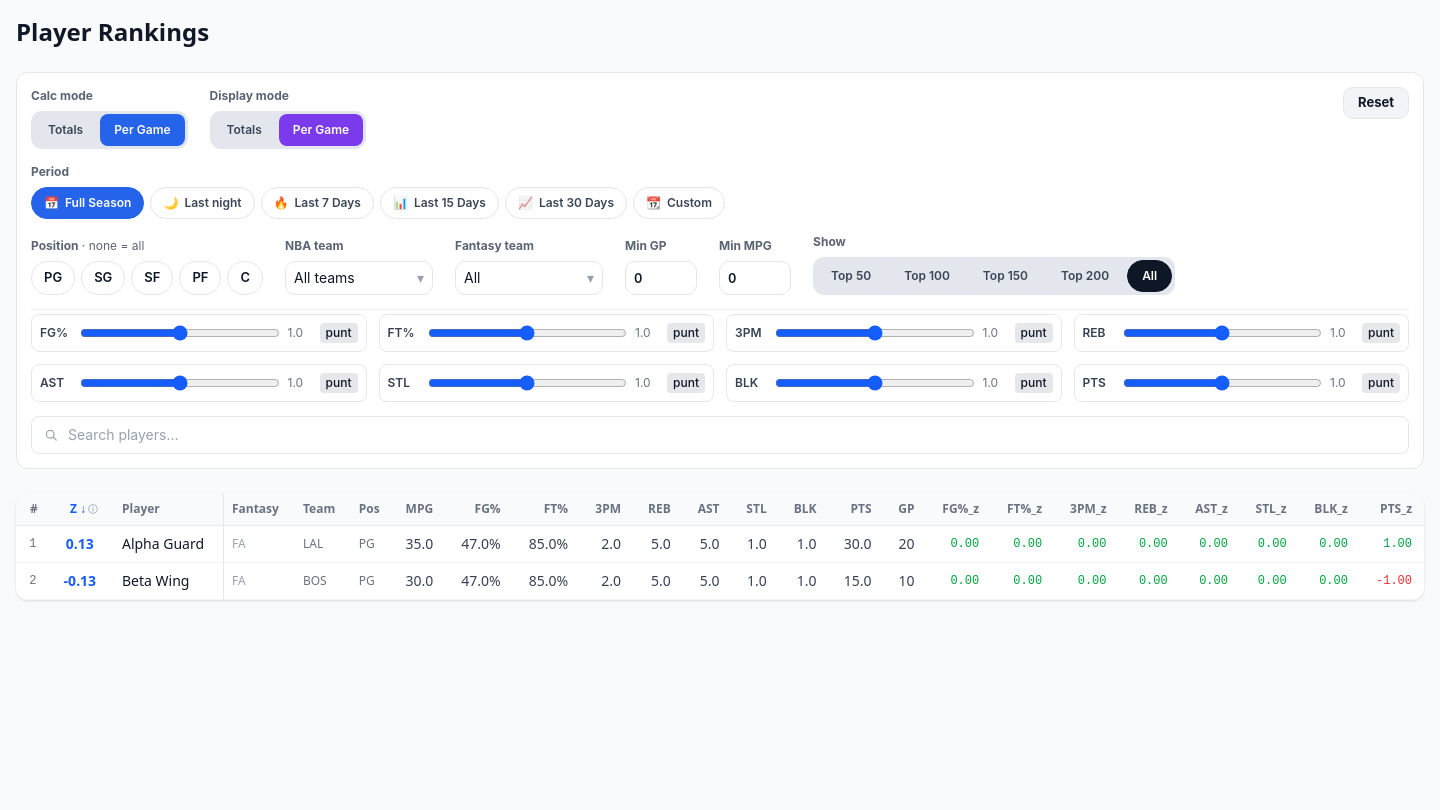
PlayerRankings page › shows minutes per game, or total minutes, following the display mode
Check: the text "Alpha Guard" is shown, box [122,534,204,553]
Check: the column heading "MPG" is shown, box [390,493,445,526]
Click the button "Totals" below "Display mode" at [244, 130], box [212,114,276,146]
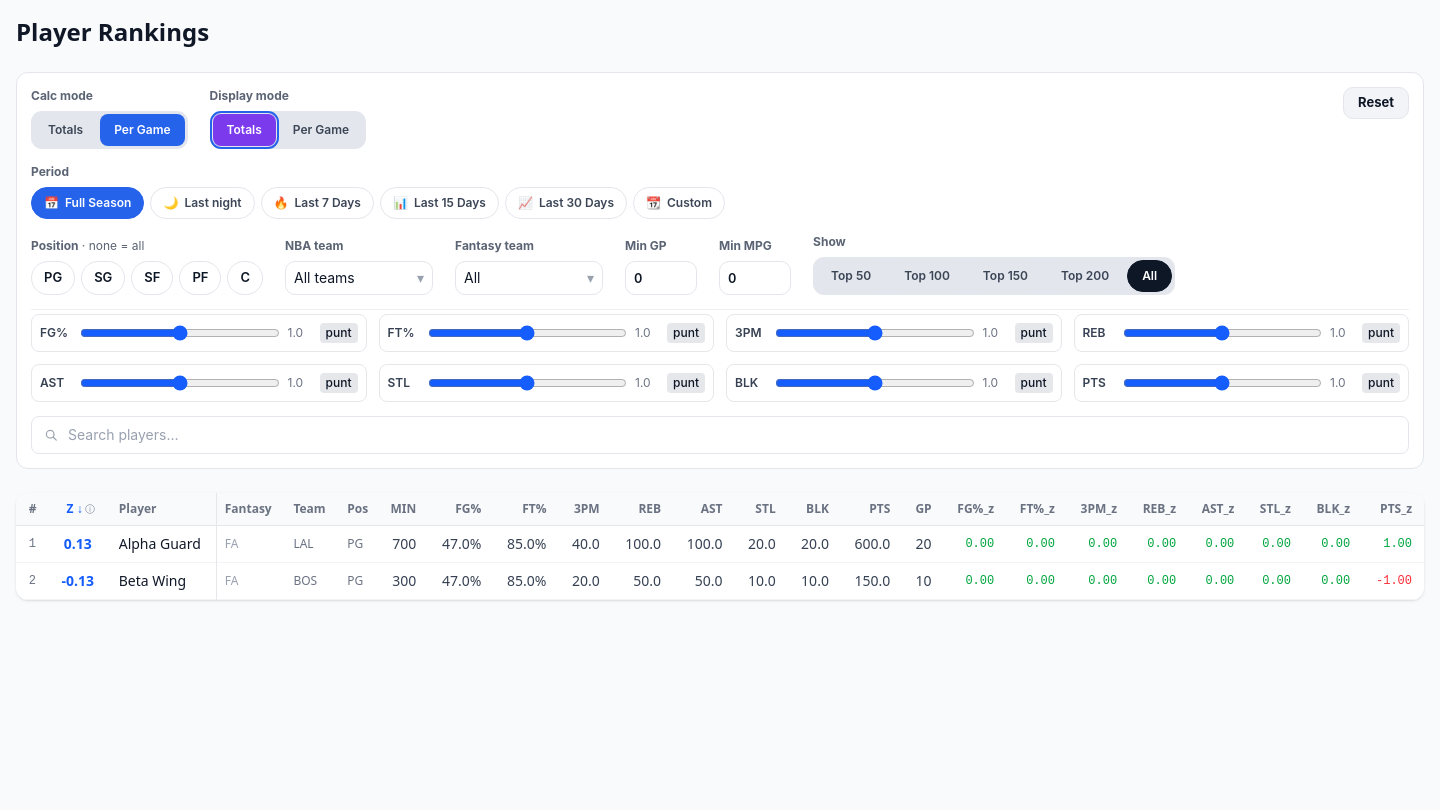
Check: the text "700" is shown, box [377,526,428,562]
Check: the column heading "MIN" is shown, box [377,493,428,526]
